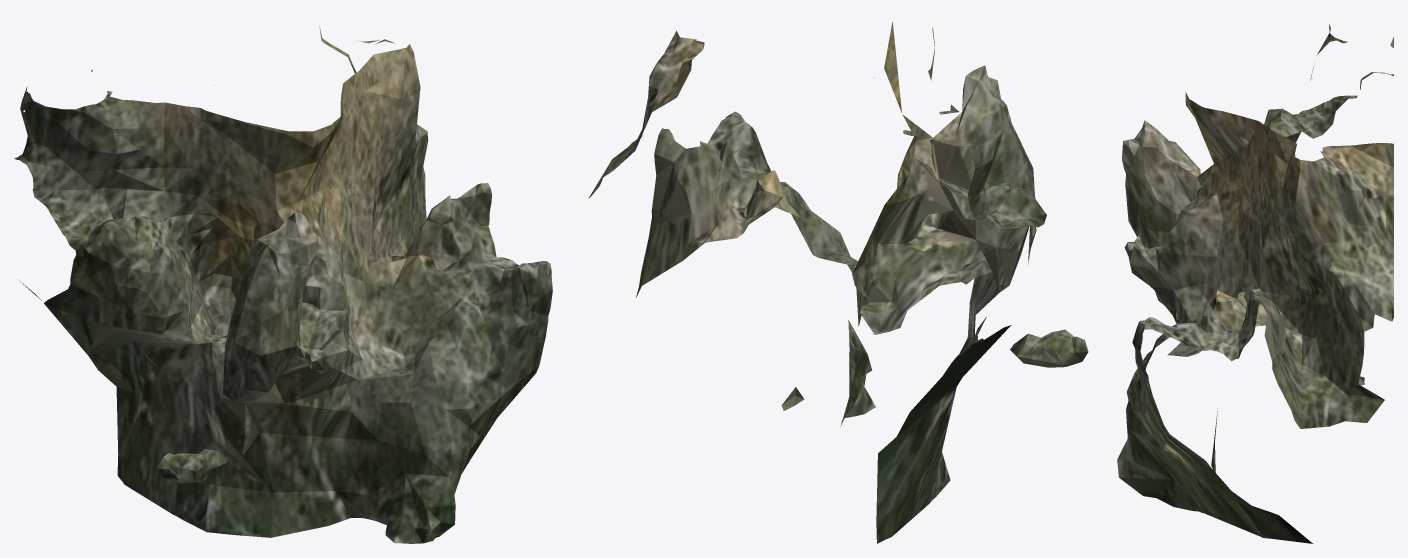
3 renders of one model, left to right at view 1: azimuth 30°, elevation 25°; view 2: azimuth 150°, elevation 25°; view 3: azimuth 270°, elevation 25°, orthographic. The views are drawn at different scales.
Bounding box in the file's own units: 5.9 × 5.9 × 4.09.
Materials: 5 (5 with a texture image).
